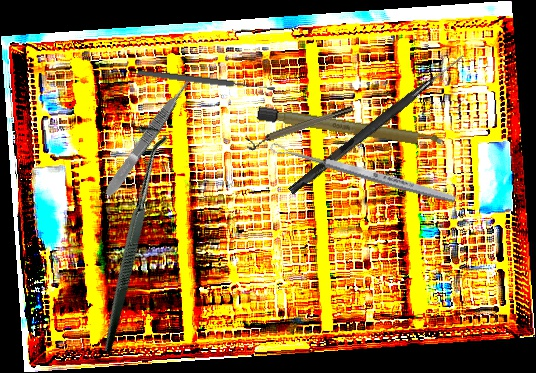Fixation Ring: (244, 104, 356, 152)
Hook Surgical: (12, 118, 243, 355), (288, 50, 466, 197)
Scalpel Handle: (255, 105, 448, 151)
Surgical Spoon: (269, 140, 457, 206), (136, 68, 276, 94)
Tissue Forceps: (101, 77, 195, 199)
